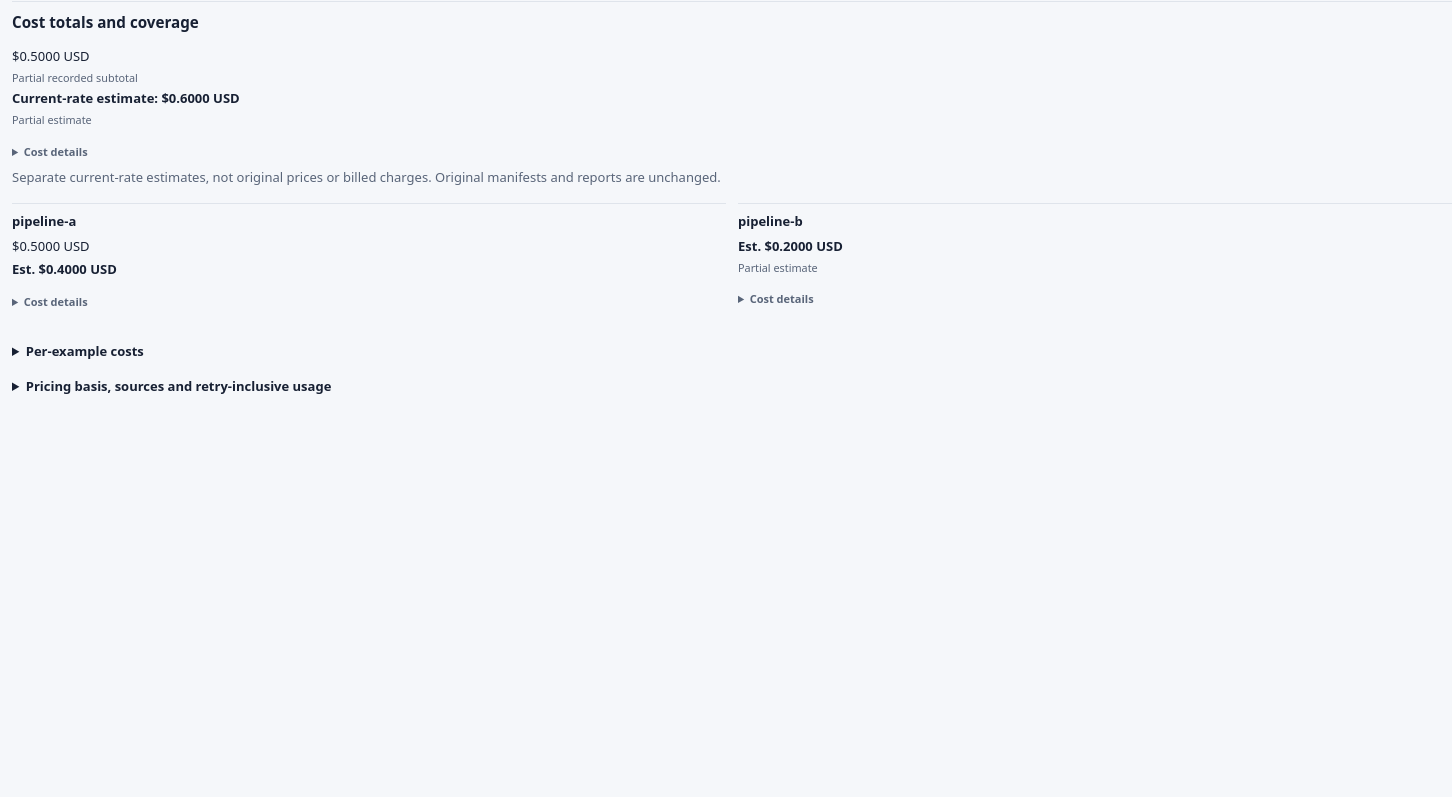
separate recorded cost and current-rate evidence › shows original and reviewed price provenance, dates, assumptions and all-attempt usage
The width and height of the screenshot is (1452, 797).
Click the heading "Pricing basis, sources and retry-inclusive usage".
click(179, 386)  # box [26,377,331,395]
(page scrolled)
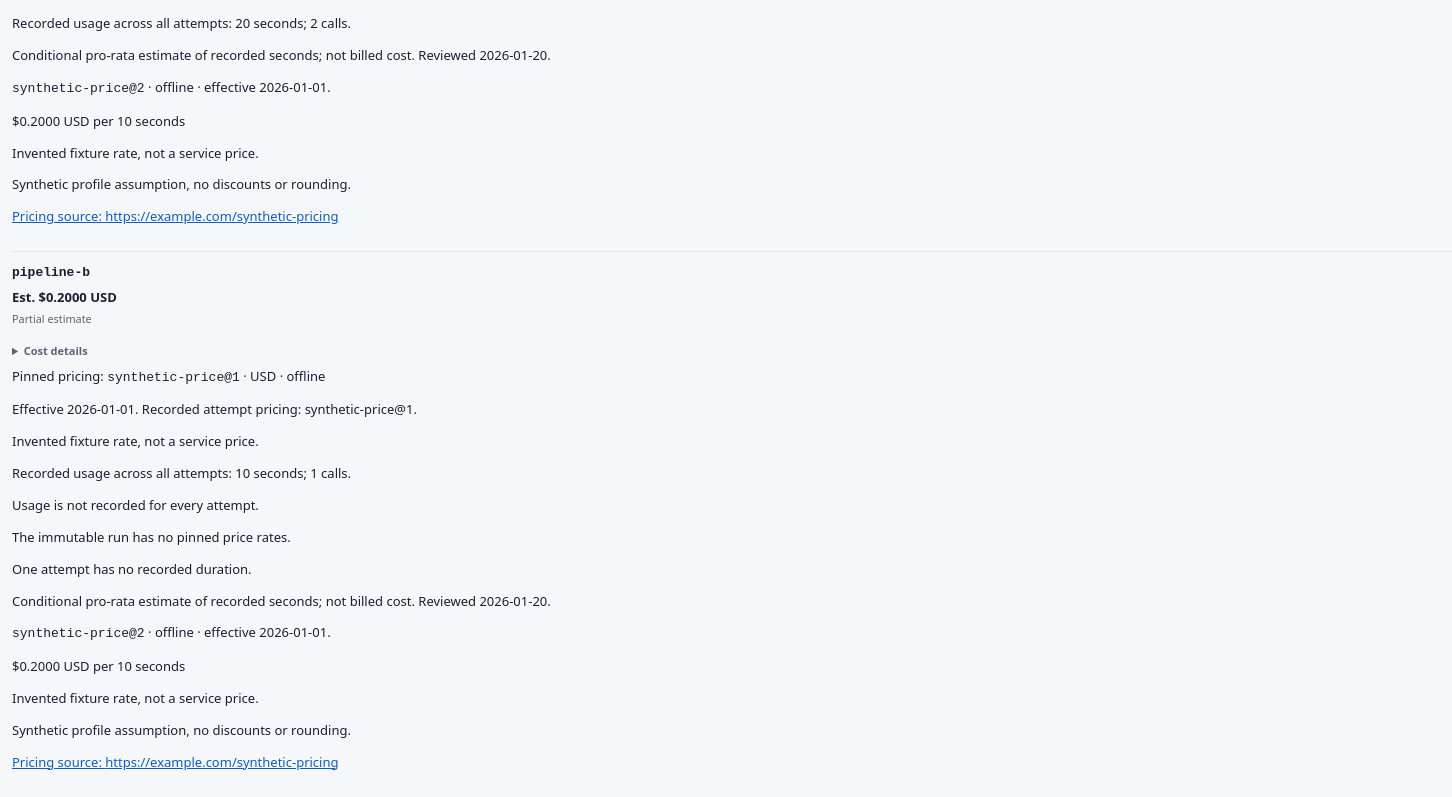
Now the element "pipeline-a" shows "20 seconds; 2 calls", box [235,14,348,32]
Now the element "pipeline-a" shows "Synthetic profile assumption", box [12,175,351,193]
Now the text "Usage is not recorded for every attempt." is shown, box [12,496,259,514]
